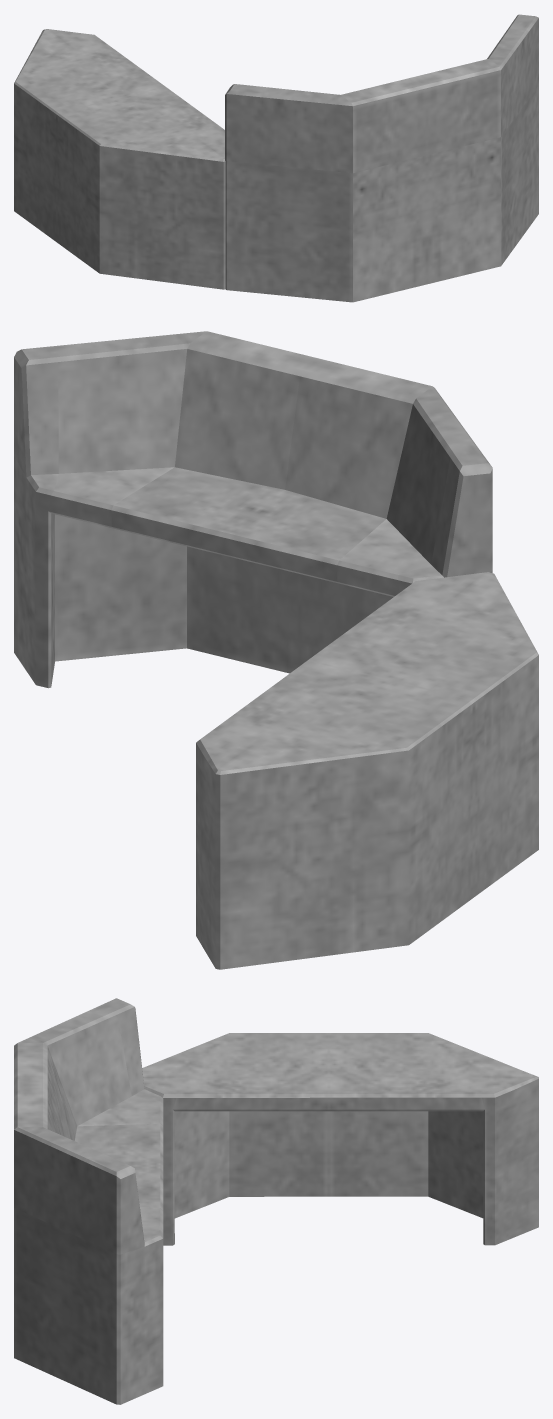
The model's file is Table.fbx.
3 renders of one model, top to bottom at view 1: azimuth 30°, elevation 25°; view 2: azimuth 150°, elevation 25°; view 3: azimuth 270°, elevation 25°, orthographic. The views are drawn at different scales.
Visible parts, largest first — view 1: Cube, Cube.001; view 2: Cube, Cube.001; view 3: Cube.001, Cube.
Boxes of the visible parts, <box> form: Cube: <box>225,14,538,302</box>; Cube.001: <box>14,29,225,289</box>; Cube: <box>14,331,492,688</box>; Cube.001: <box>196,572,538,969</box>; Cube.001: <box>142,1033,538,1245</box>; Cube: <box>14,998,163,1404</box>.
Bounding box in the file's own units: 634 × 307 × 633.
Materials: 1 (1 with a texture image).
